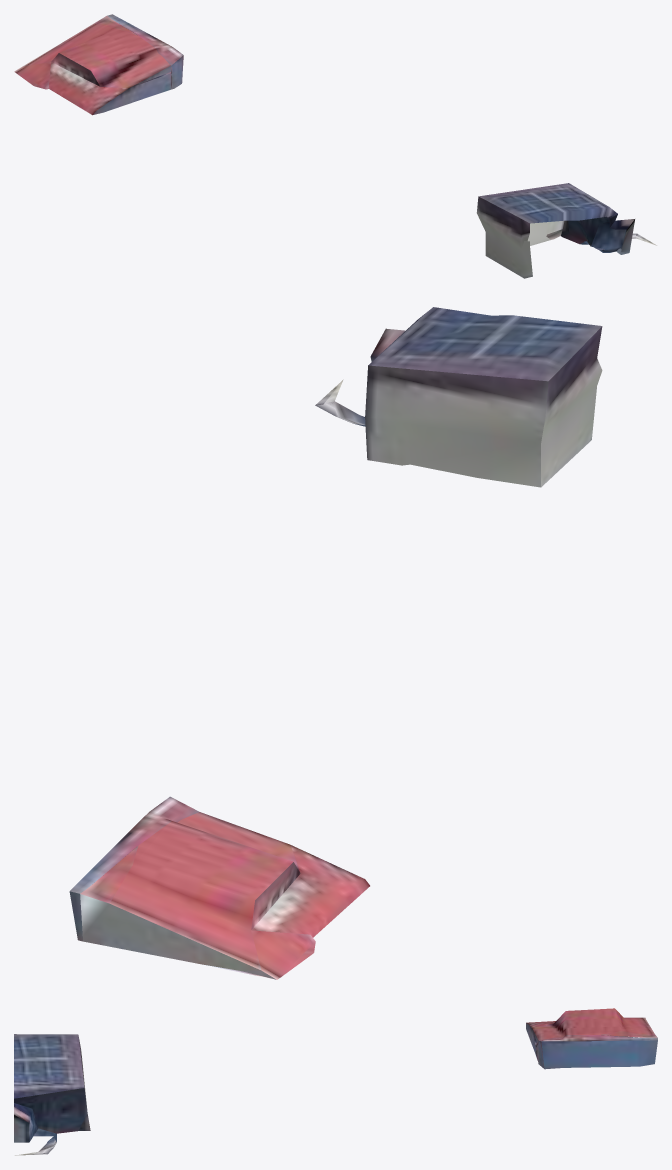
3 views of the same model, one above another, from view 1: azimuth 30°, elevation 25°; view 2: azimuth 150°, elevation 25°; view 3: azimuth 270°, elevation 25° (orthographic). The views are drawn at different scales.
Visible parts, largest first — view 1: 30436272704361505735_0; view 2: 30436272704361505735_0; view 3: 30436272704361505735_0.
Boxes of the visible parts, bbox=[...] form: 30436272704361505735_0: bbox=[14, 14, 656, 278]; 30436272704361505735_0: bbox=[69, 307, 602, 979]; 30436272704361505735_0: bbox=[14, 1008, 657, 1155].
Size of the model in its own units: 16.42 by 3.24 by 32.39.
Materials: 1 (1 with a texture image).
